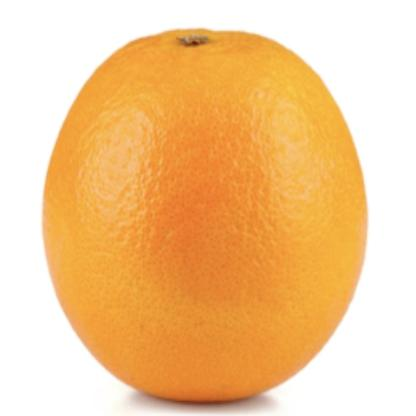fresh: (43, 30, 368, 403)
